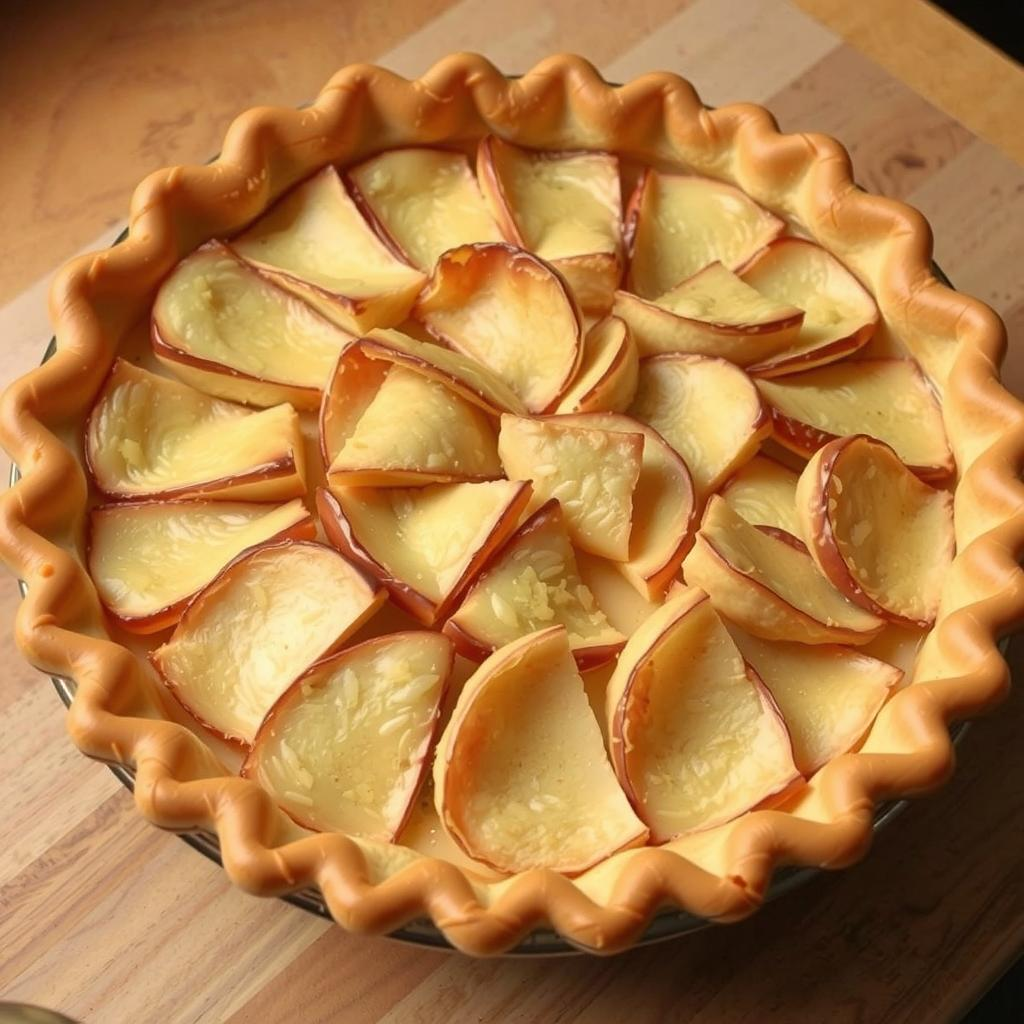pie: (0, 46, 1024, 961)
